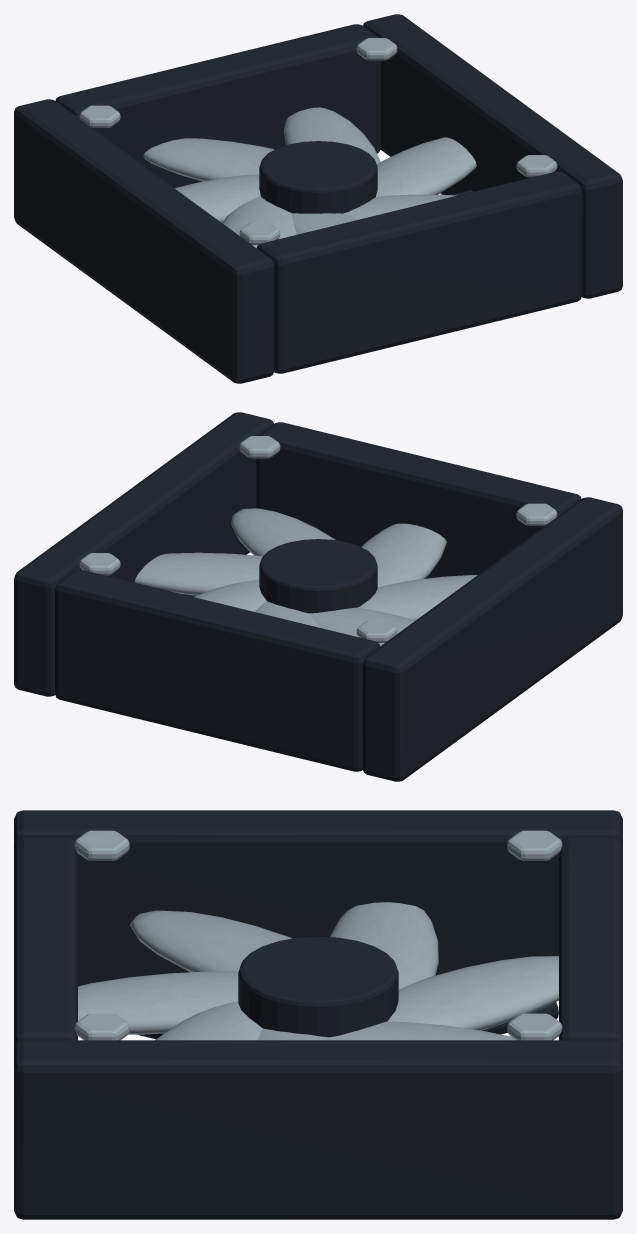
File: fan.glb
3 views of the same model, one above another, from view 1: azimuth 30°, elevation 25°; view 2: azimuth 150°, elevation 25°; view 3: azimuth 270°, elevation 25° (orthographic). The views are drawn at different scales.
Visible parts, largest first — view 1: fan; view 2: fan; view 3: fan.
Part boxes in pixels (x1,y1,x2,y2): fan: (14,14,622,383); fan: (14,412,622,781); fan: (14,810,622,1219).
Size of the model in its own units: 0.38 by 0.113 by 0.38.
